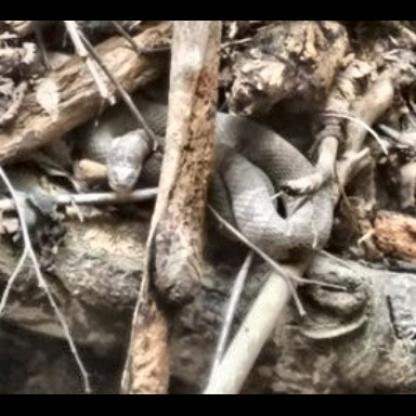Snake: (60, 77, 337, 262), (84, 95, 178, 196)
